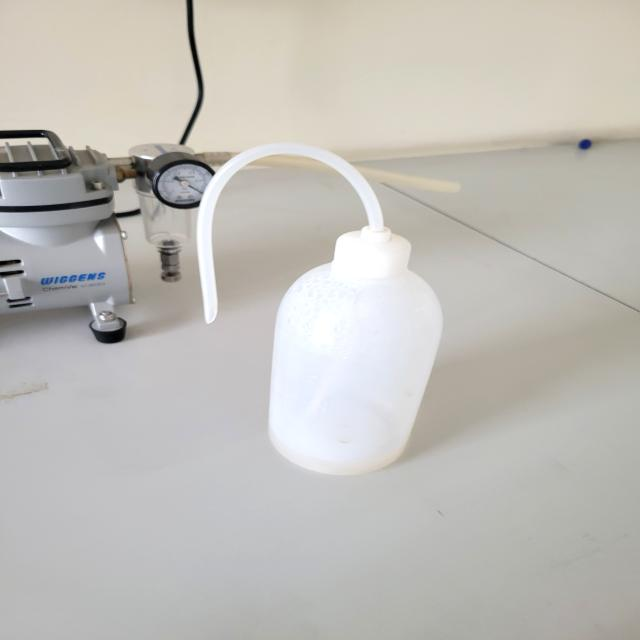Wash_Bottle: (176, 133, 454, 498)
